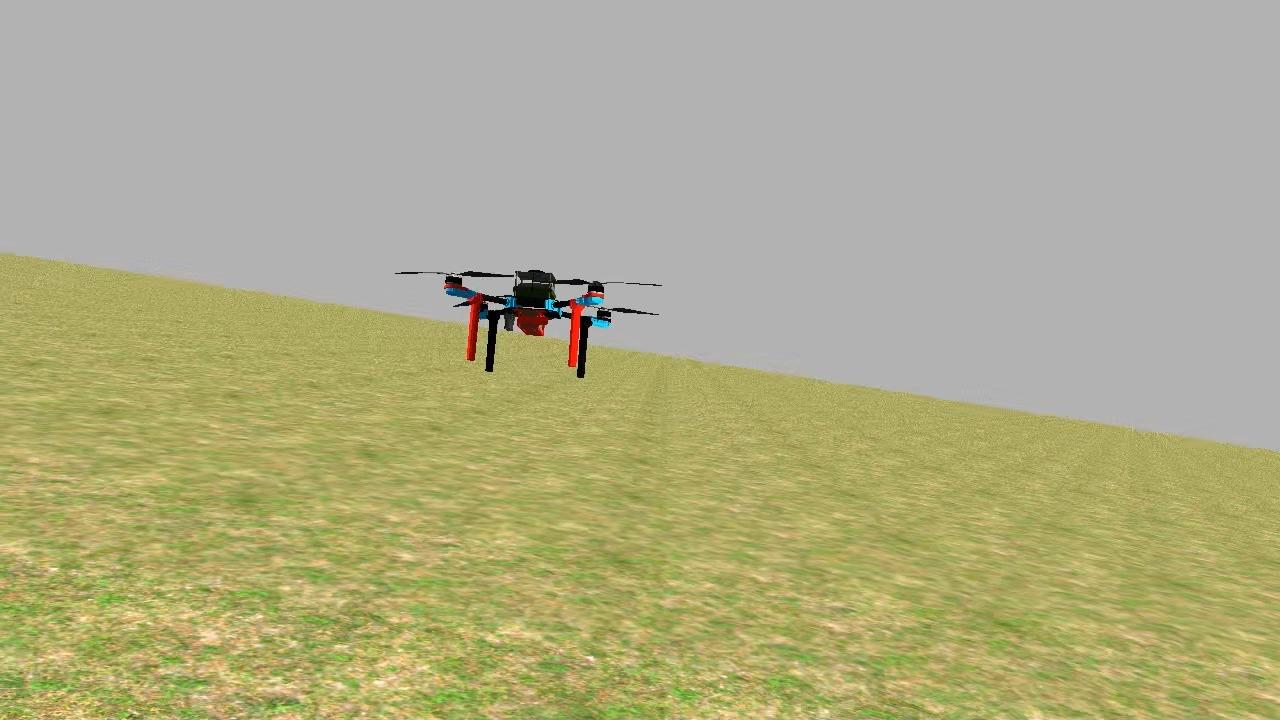UAV: (430, 254, 626, 388)
